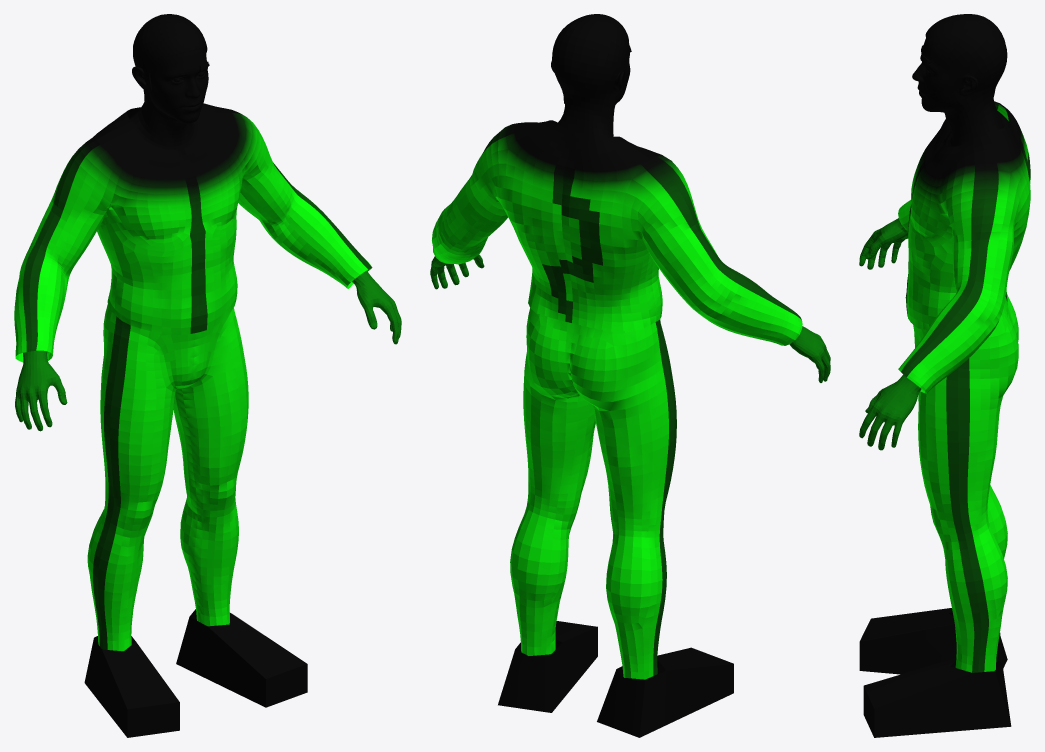
The model's file is Severu.fbx.
The picture shows the model from 3 angles, left to right: view 1: azimuth 30°, elevation 25°; view 2: azimuth 150°, elevation 25°; view 3: azimuth 270°, elevation 25°; orthographic projection. The views are drawn at different scales.
Parts seen in each view (by area): view 1: Severus; view 2: Severus; view 3: Severus.
Part boxes in pixels (x1,y1,x2,y2): Severus: [14, 14, 401, 737]; Severus: [430, 14, 830, 737]; Severus: [859, 14, 1030, 737].
Size of the model in its own units: 7.71 by 12.86 by 2.96.
